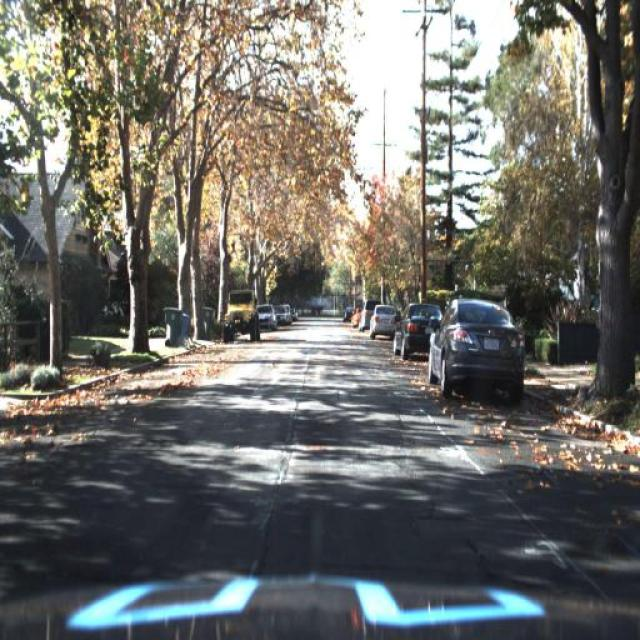car: (422, 284, 528, 418), (388, 296, 430, 369), (214, 284, 260, 345), (366, 297, 395, 338), (258, 300, 278, 330), (357, 296, 372, 334), (356, 298, 372, 332), (350, 300, 364, 334), (272, 304, 288, 328), (276, 298, 286, 328)
